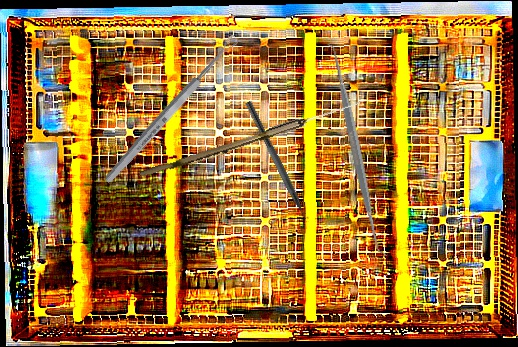Chopper: (236, 100, 315, 232)
Spatula Surgical: (321, 40, 392, 260)
Surgical Spoon: (102, 33, 241, 186), (139, 96, 362, 183)
